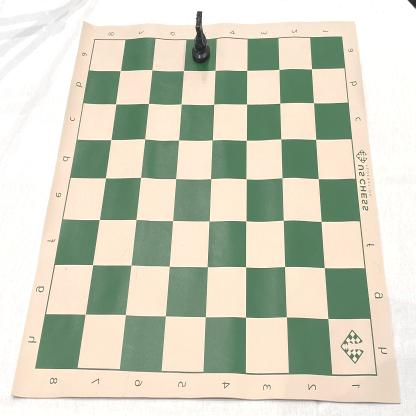black-knight: (192, 11, 210, 64)
